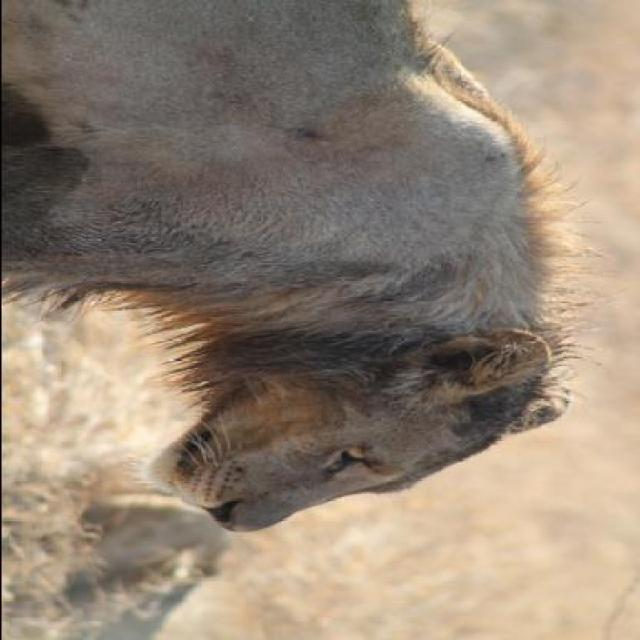Lion: (2, 1, 596, 552)
